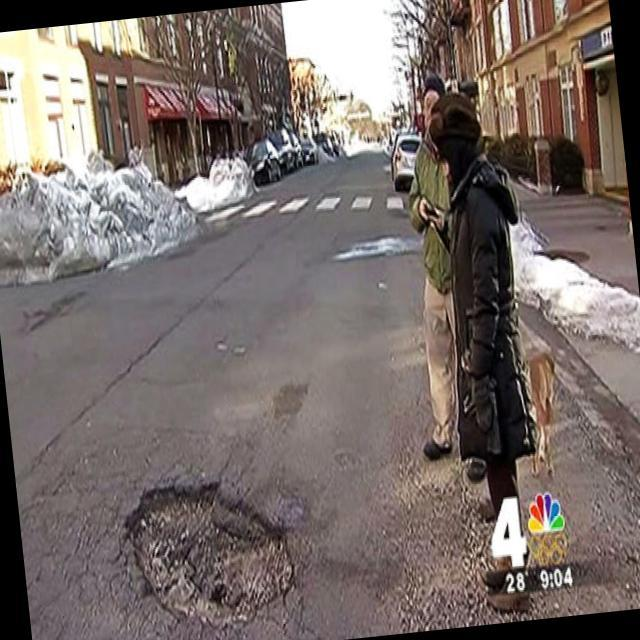Pothole: (116, 463, 303, 640)
